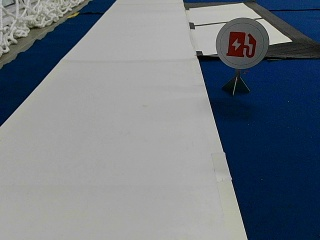battery: (214, 16, 269, 69)
